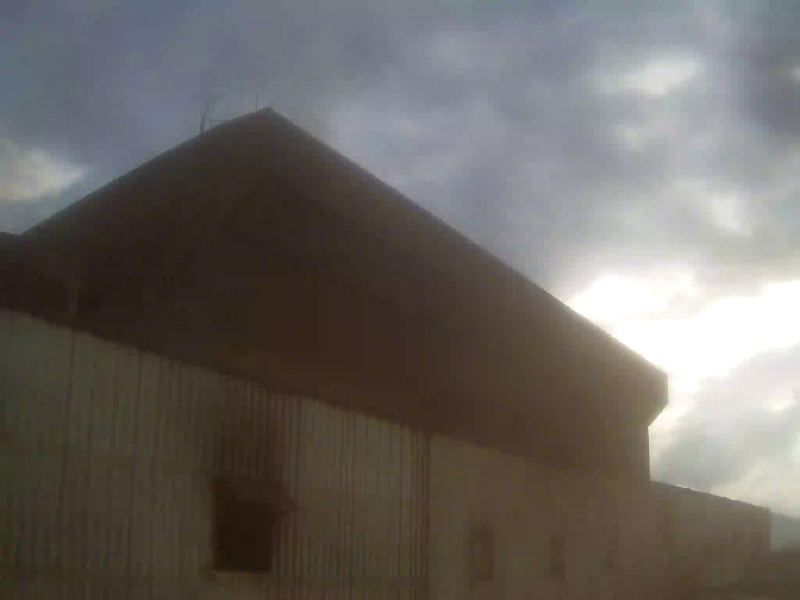bom: (277, 50, 692, 437), (9, 4, 275, 109)
